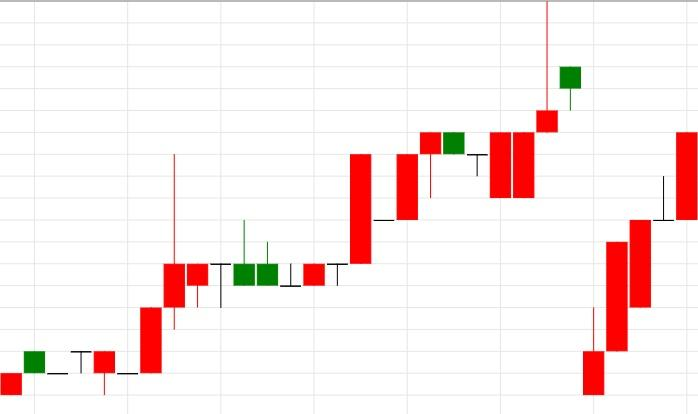hanging_man_fall: (93, 132, 442, 396)
shooting_star_fall: (93, 0, 559, 396)
